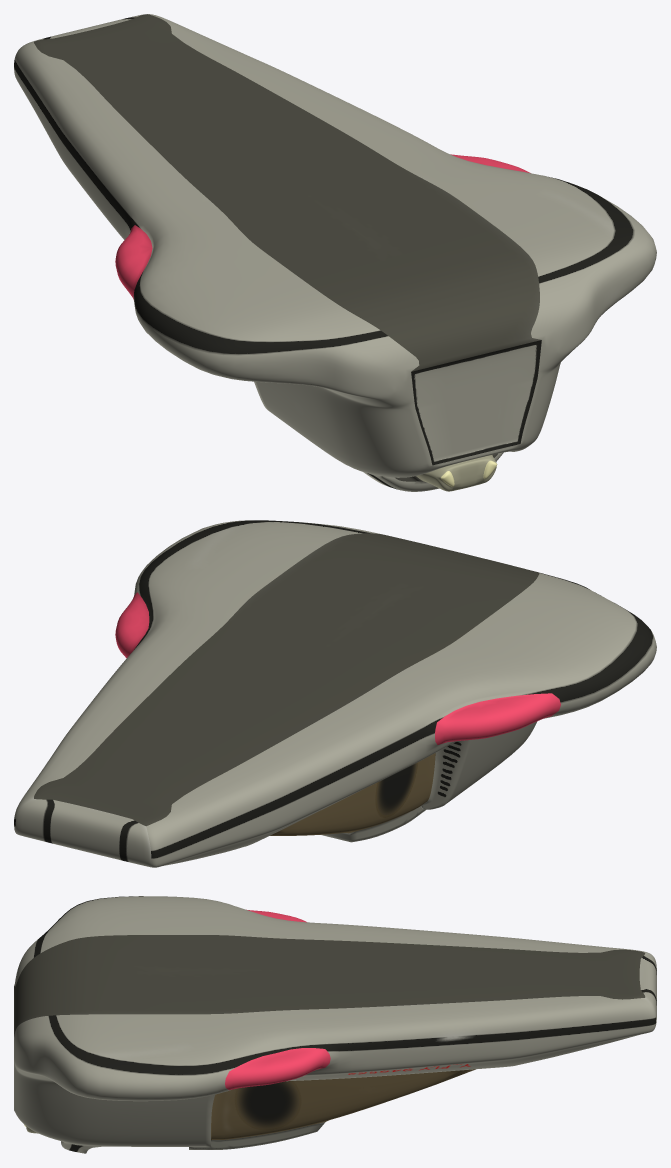
File: spaceship_v2_2.fbx
The picture shows the model from 3 angles, top to bottom: view 1: azimuth 30°, elevation 25°; view 2: azimuth 150°, elevation 25°; view 3: azimuth 270°, elevation 25°; orthographic projection. The views are drawn at different scales.
Parts seen in each view (by area): view 1: Plane; view 2: Plane; view 3: Plane.
Boxes of the visible parts, bbox=[...] form: Plane: bbox=[14, 14, 656, 491]; Plane: bbox=[14, 520, 656, 867]; Plane: bbox=[14, 896, 656, 1153].
Bounding box in the file's own units: 8.91 × 3.72 × 12.86.
1 material, 1 textured.
